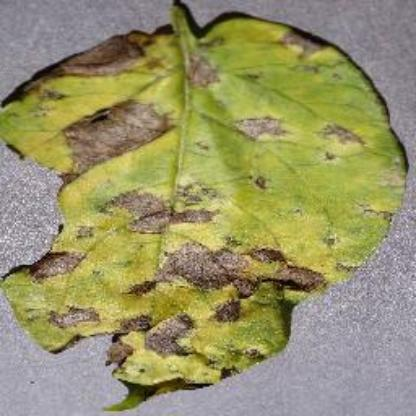Early-Blight: (1, 3, 411, 412)
